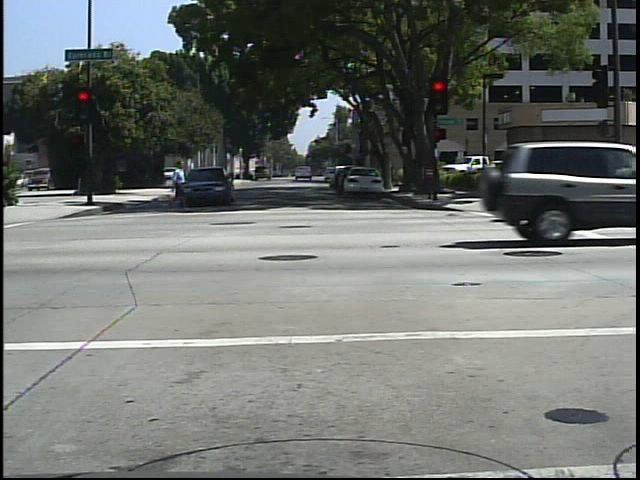person: (587, 143, 618, 210), (163, 156, 192, 213)
